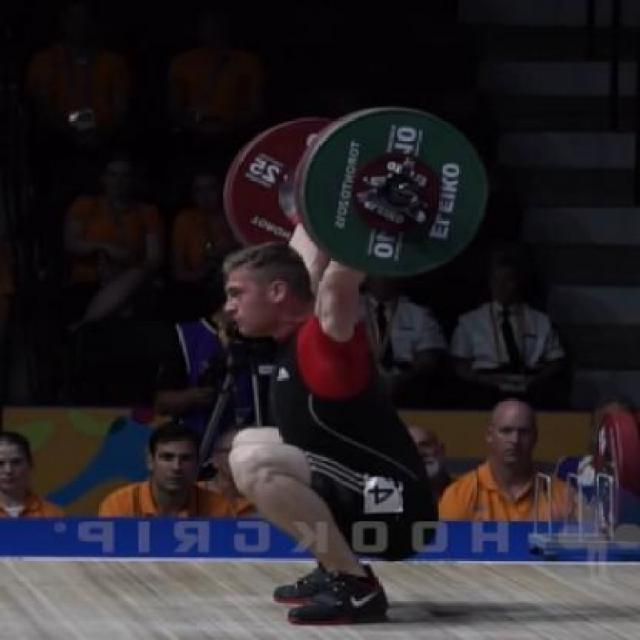Barbell: (392, 179, 422, 207)
